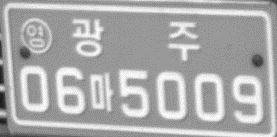0: (192, 72, 226, 123), (155, 69, 188, 121), (18, 64, 50, 113)
5: (118, 68, 150, 118)
6: (54, 66, 86, 115)
9: (231, 73, 264, 125)
광주_D: (71, 17, 200, 62)
마: (88, 72, 114, 113)
영: (19, 17, 53, 54)
